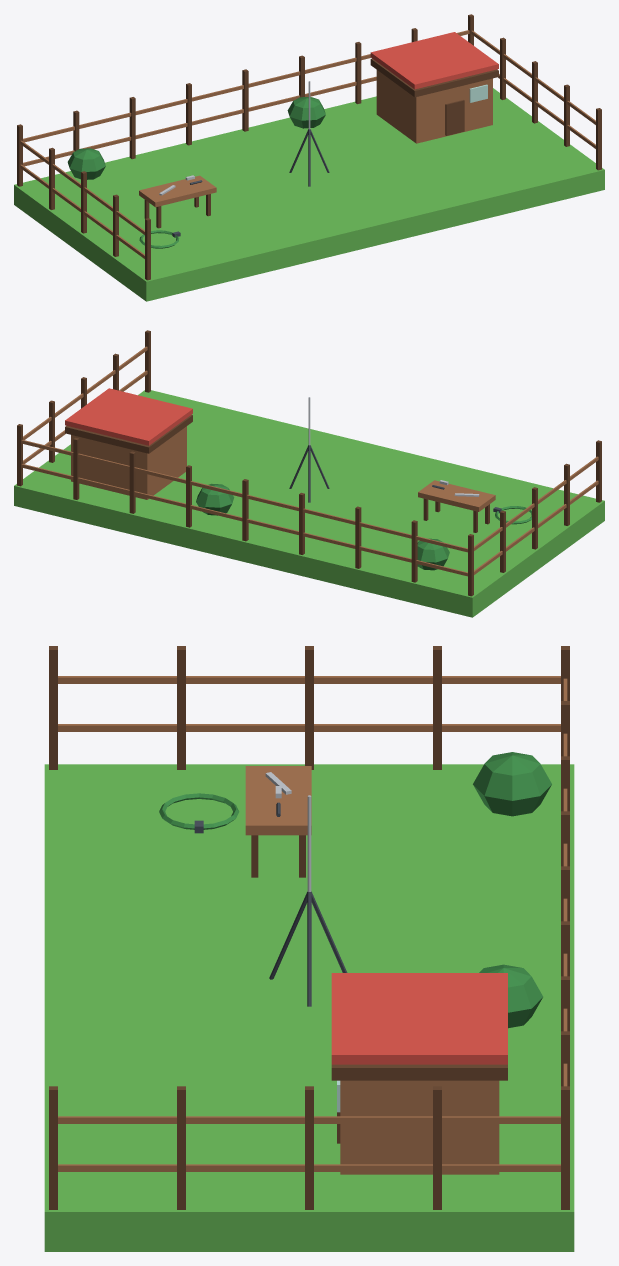
Rendered from site_model_rockets.glb.
3 renders of one model, top to bottom at view 1: azimuth 30°, elevation 25°; view 2: azimuth 150°, elevation 25°; view 3: azimuth 270°, elevation 25°, orthographic. The views are drawn at different scales.
Visible parts, largest first — view 1: site_model_rockets; view 2: site_model_rockets; view 3: site_model_rockets.
Boxes of the visible parts, x1,y1,x2,y2 form: site_model_rockets: (14, 14, 604, 301); site_model_rockets: (14, 330, 604, 617); site_model_rockets: (44, 646, 574, 1251).
Bounding box in the file's own units: 12 × 2.9 × 6.
